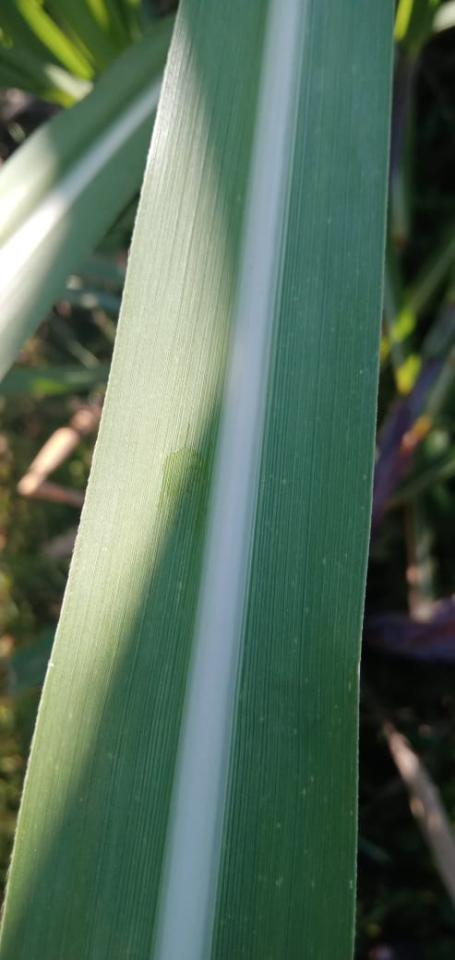Healthy: (0, 0, 390, 959), (0, 21, 172, 381)
